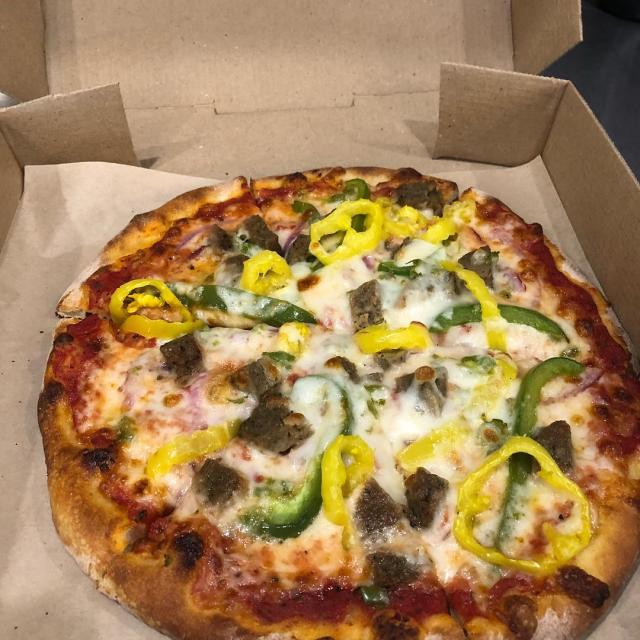pizza: (35, 162, 640, 639)
